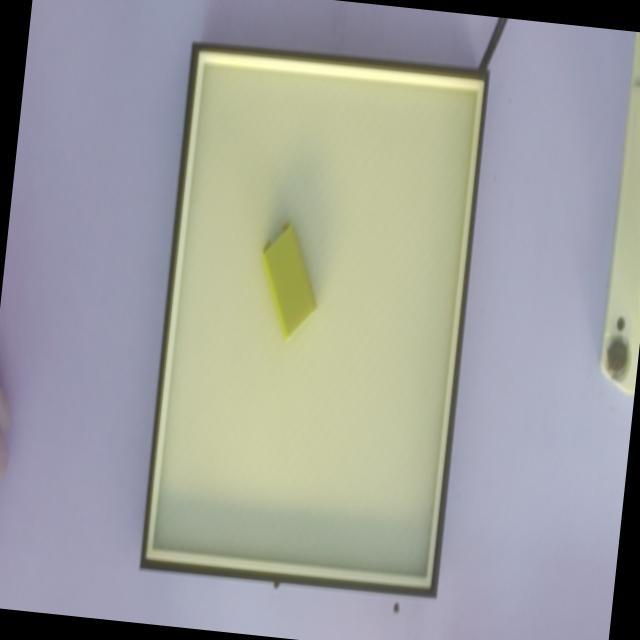bateria: (260, 221, 319, 340)
mesa: (139, 42, 489, 599)
